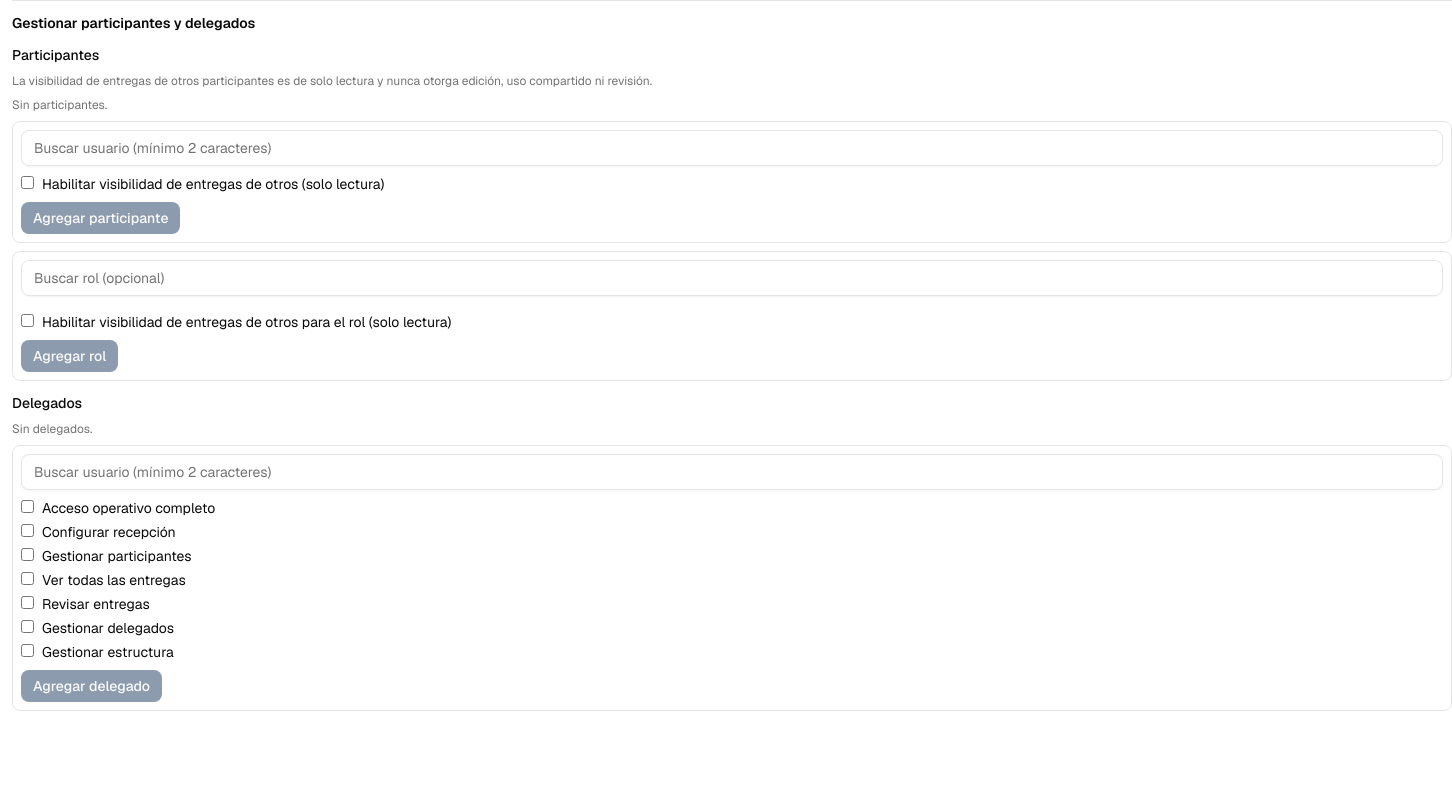
Test: excludes the owner and the current actor from new delegate search results
The width and height of the screenshot is (1452, 810).
Type "an" into the field named "Buscar usuario para delegado" at (732, 472), box [21, 454, 1443, 490]
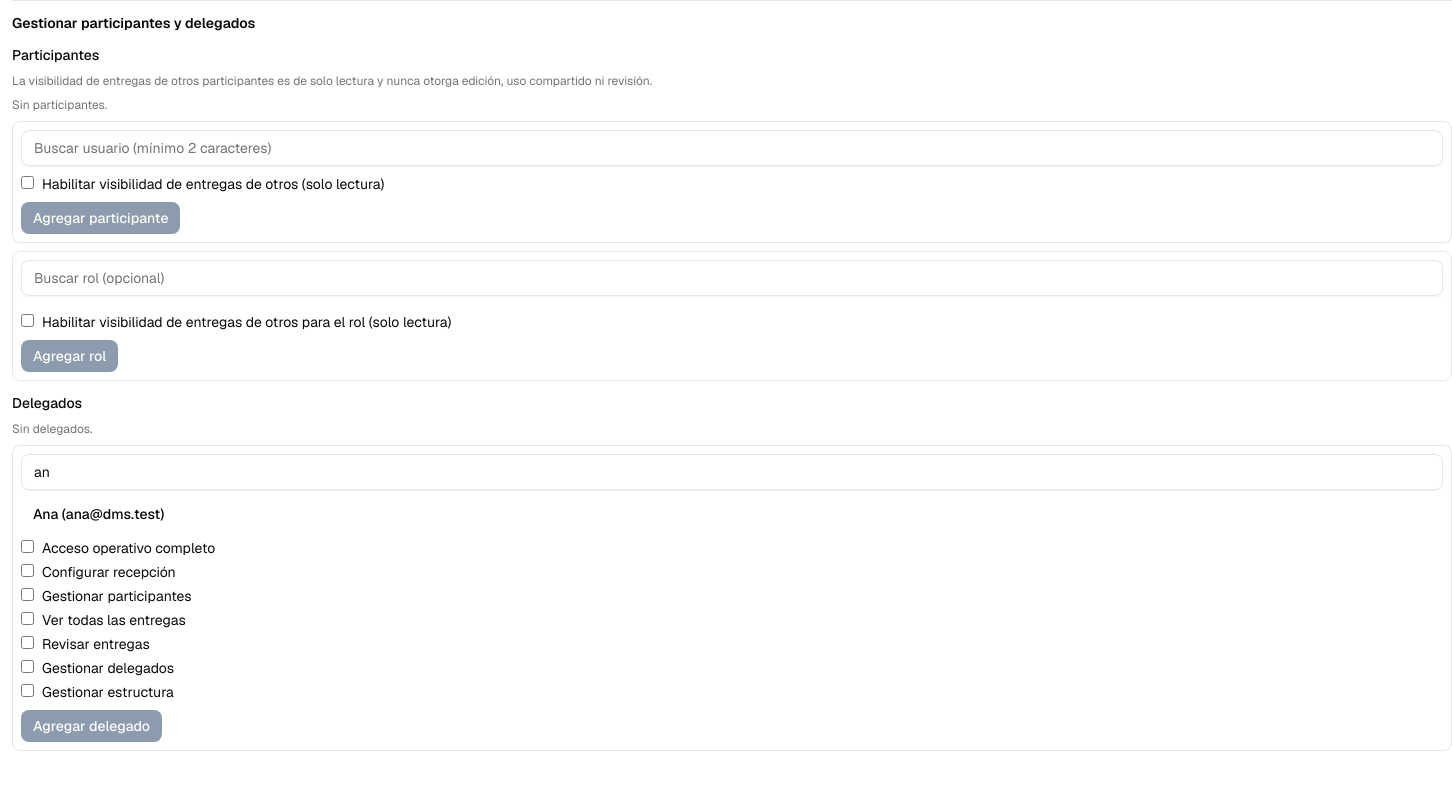
Result: the button "Ana (ana@dms.test)" is shown at [21, 498, 176, 530]
